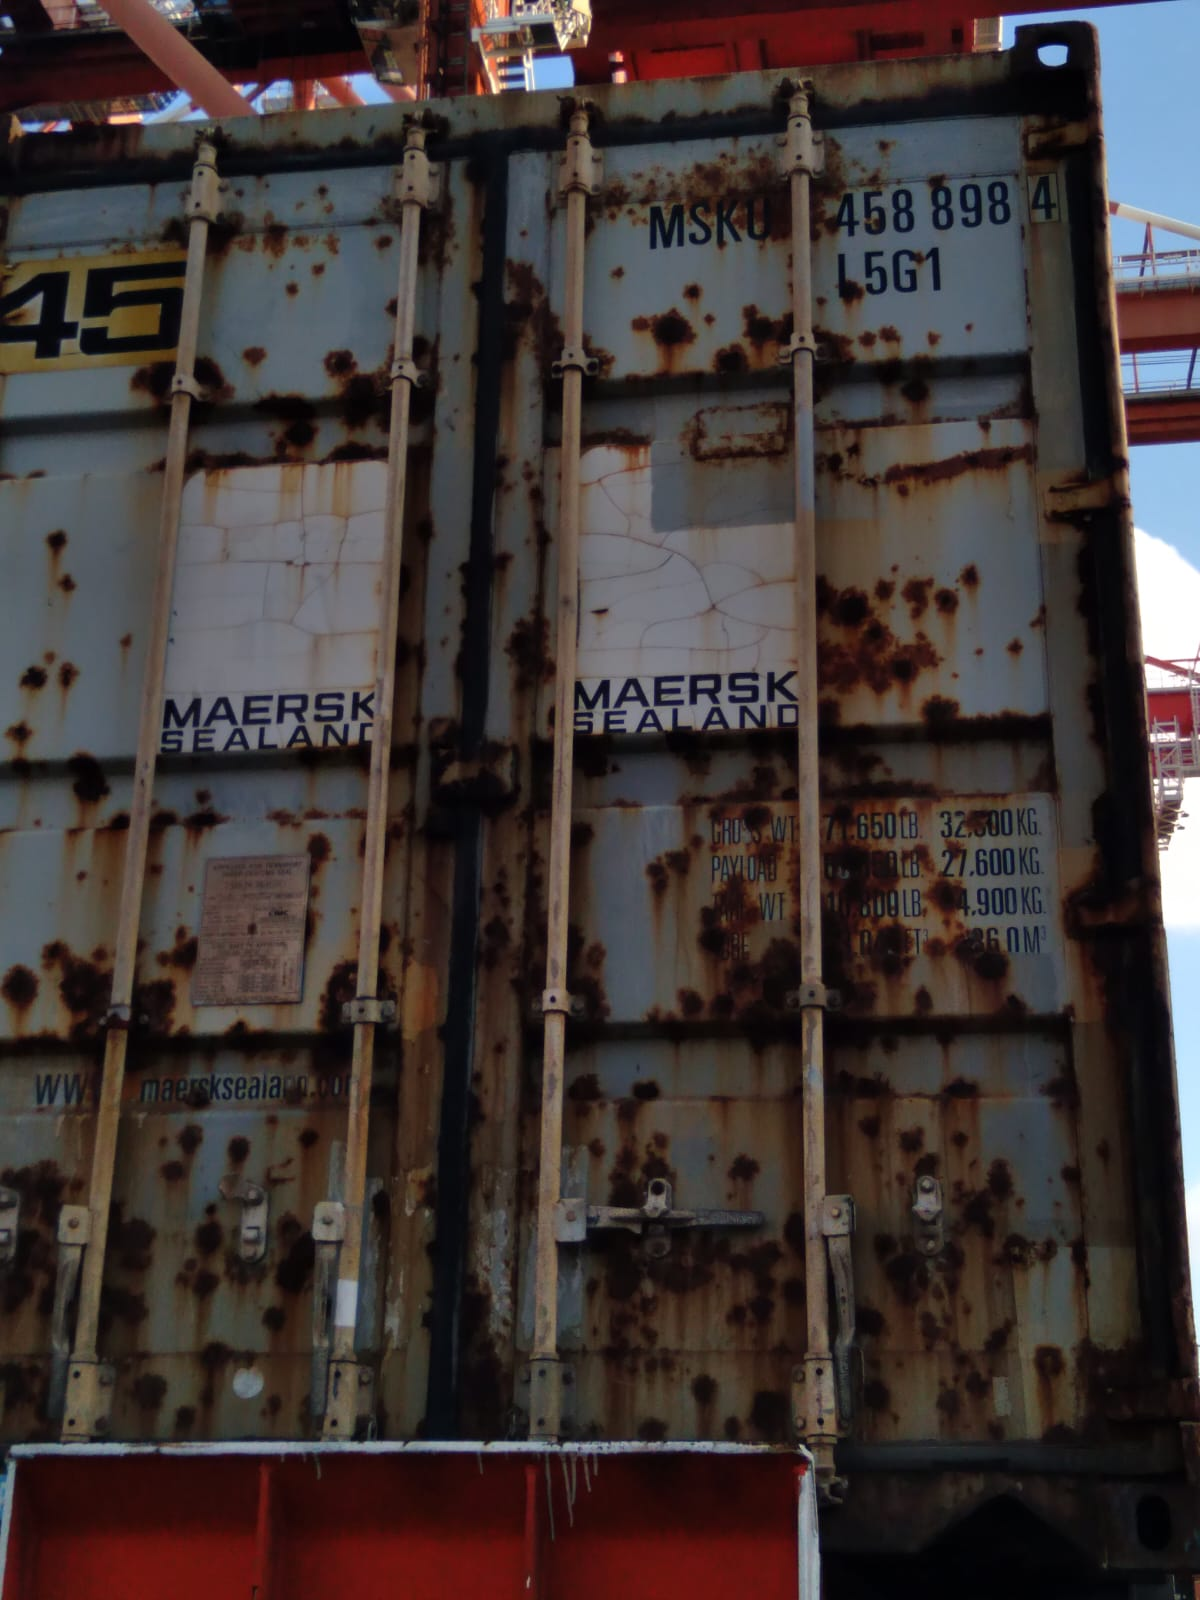rust: (19, 964, 464, 1445), (488, 1165, 1068, 1440), (163, 220, 586, 537), (654, 791, 1024, 1106), (642, 289, 945, 437)
